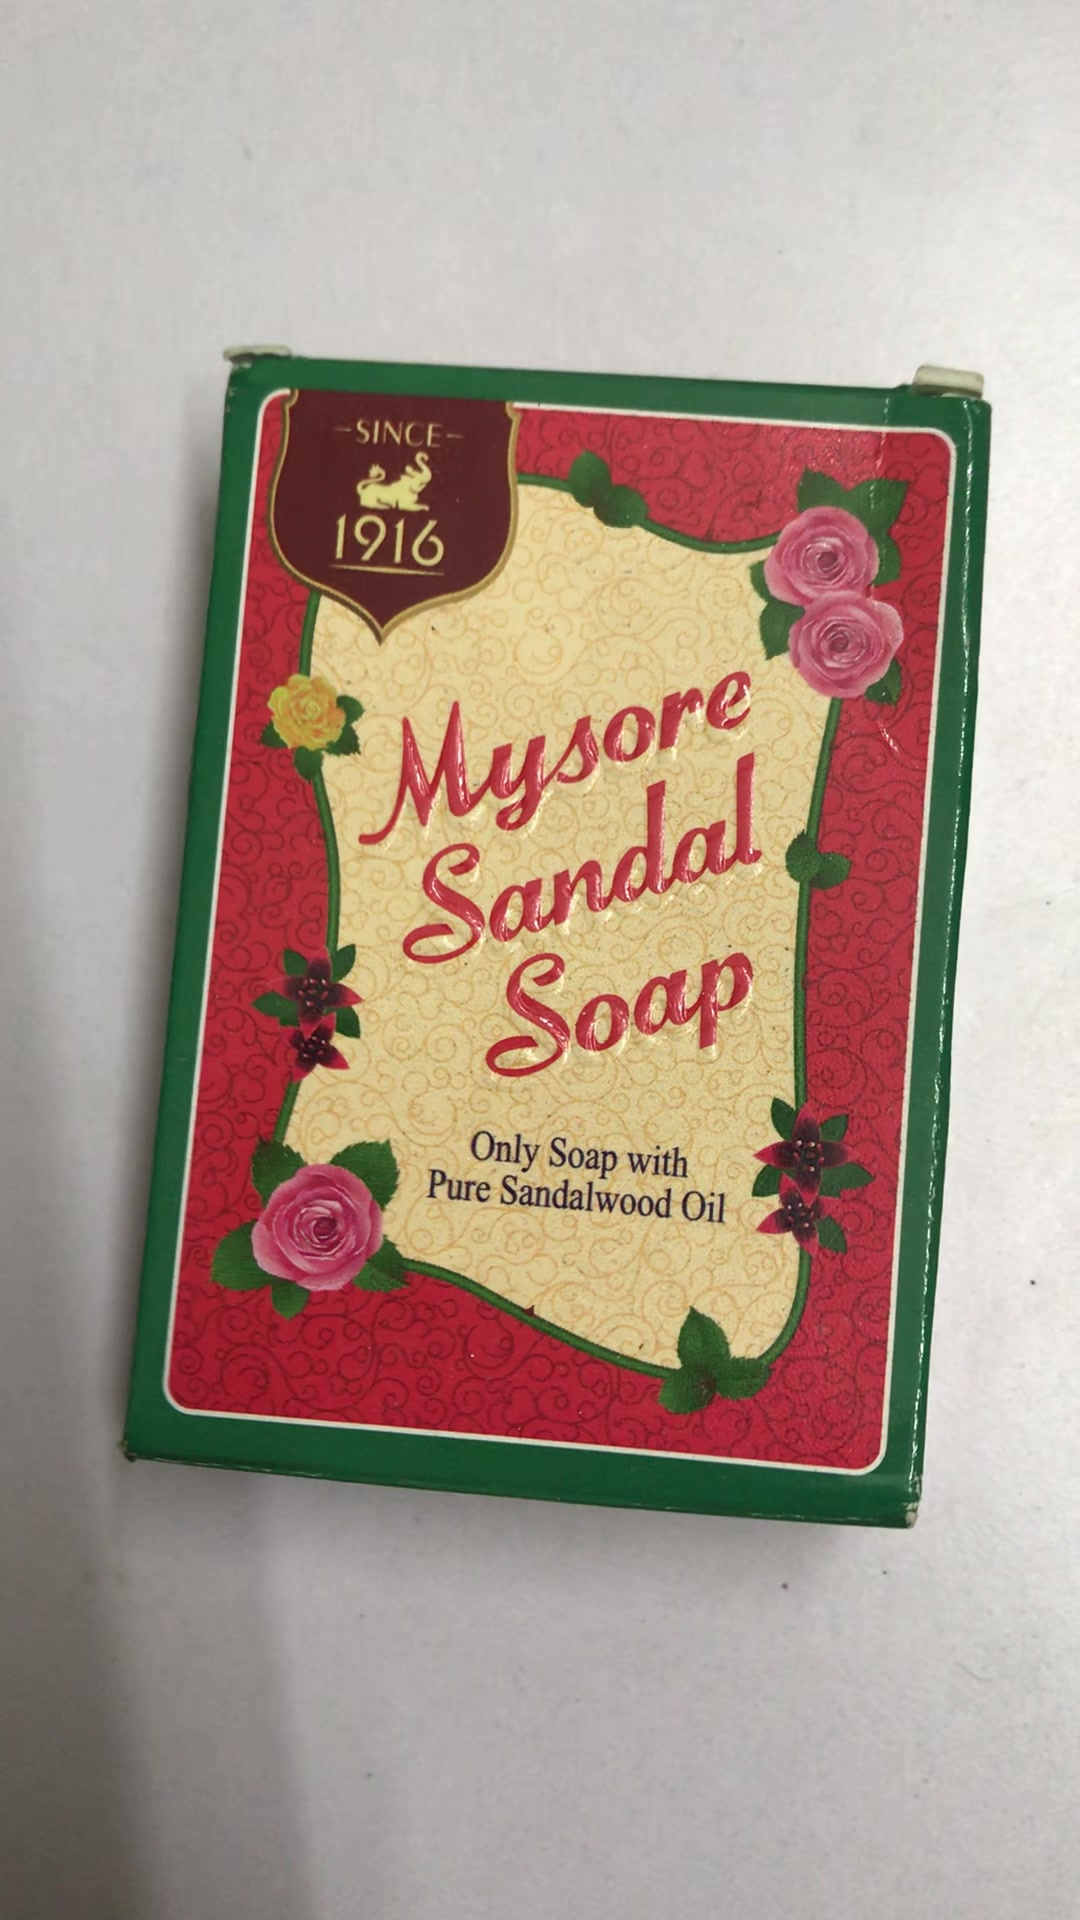mysore sandal soap: (124, 348, 997, 1528)
